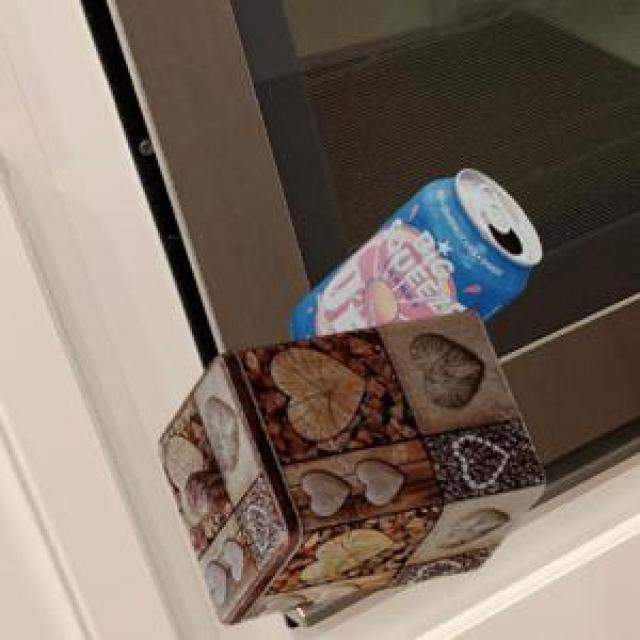Can: (157, 306, 541, 620), (287, 165, 539, 338)
